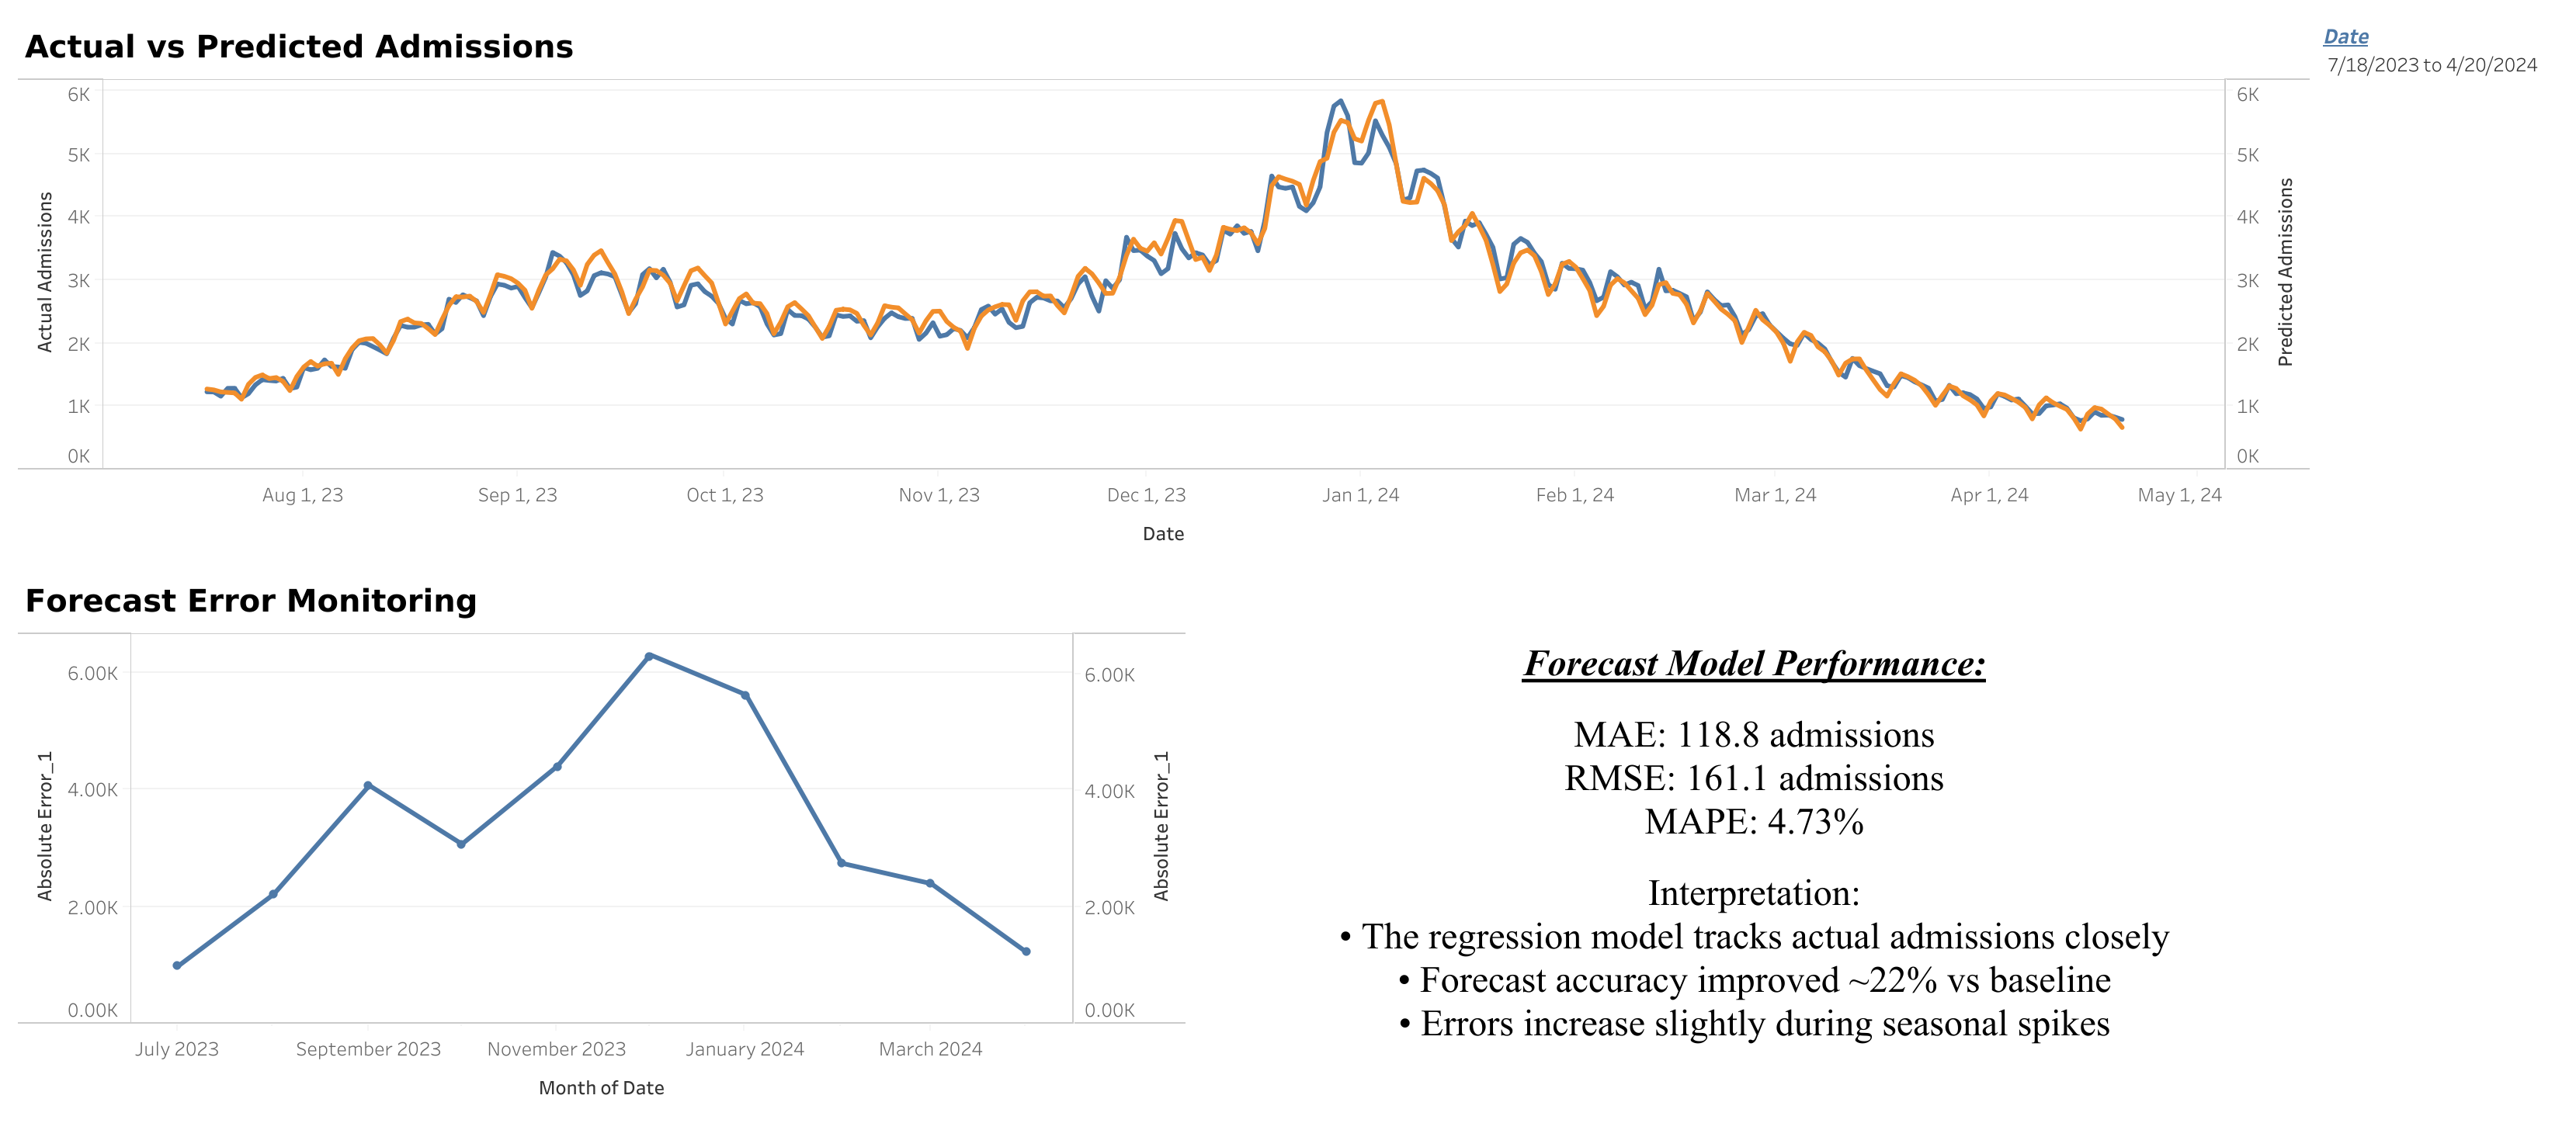

The page's visual inventory and layout, read from the dashboard file:
{"tool":"tableau","page":{"name":"Forecast Monitoring","canvas":[1000,1000],"units":"permille","ordinal":2},"visuals":[{"type":"worksheet","title":"Actual vs Predicted Admissions","mark":"Line","rows":["actual_admissions","predicted_admissions"],"cols":["date"],"box":[5.3,9.3,882.6,490.7]},{"type":"filter","title":"Forecast Error Monitoring","param":"[federated.15n6dyi1h96j0l1ewk7i21qm2fvq].[none:date:qk]","box":[887.9,9.3,106.7,81.4]},{"type":"worksheet","title":"Forecast Error Monitoring","mark":"Line","rows":["Calculation_0541419074412545","Calculation_0541419074412545"],"cols":["date"],"box":[5.3,500,452.3,490.7]},{"type":"text","box":[457.6,500,430.3,490.7]}]}

Visuals, with their boxes on the dashboard's canvas, which has no fixed pixel size, in thousandths of its width and height (x1, y1, x2, y2). These are canvas units, not pixel positions in the 2576x1130 screenshot, which may show the page scaled, cropped or inside an application window:
"Actual vs Predicted Admissions" worksheet (Line marks): x1=5, y1=9, x2=888, y2=500
"Forecast Error Monitoring" filter: x1=888, y1=9, x2=995, y2=91
"Forecast Error Monitoring" worksheet (Line marks): x1=5, y1=500, x2=458, y2=991
text: x1=458, y1=500, x2=888, y2=991
